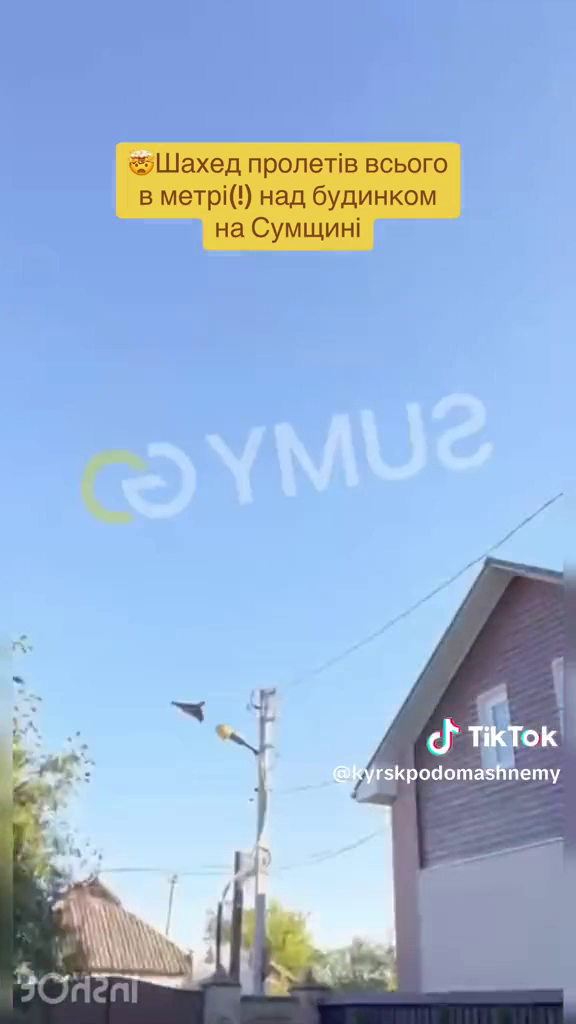shahed: (169, 696, 208, 725)
